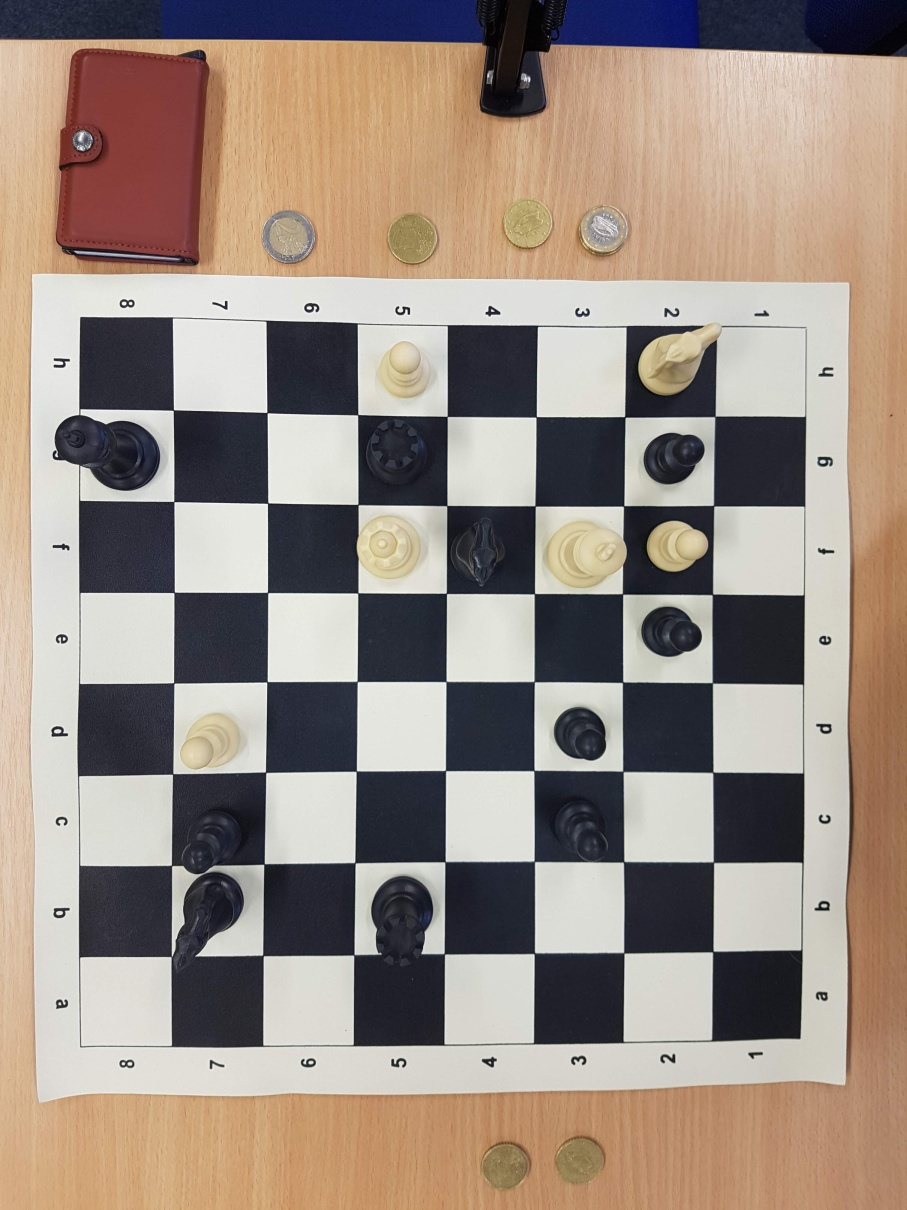chess_king: (55, 415, 161, 492), (545, 521, 627, 589)
chess_knight: (170, 874, 243, 969), (638, 322, 721, 395), (450, 518, 506, 585)
chess_pawn: (182, 811, 239, 874), (554, 800, 608, 862), (646, 521, 708, 573), (181, 714, 239, 769), (644, 433, 705, 484), (642, 608, 702, 656), (555, 709, 607, 761), (380, 342, 430, 396)
chess_queen: (355, 514, 421, 581)
chess_rook: (370, 876, 433, 967), (367, 418, 428, 485)
